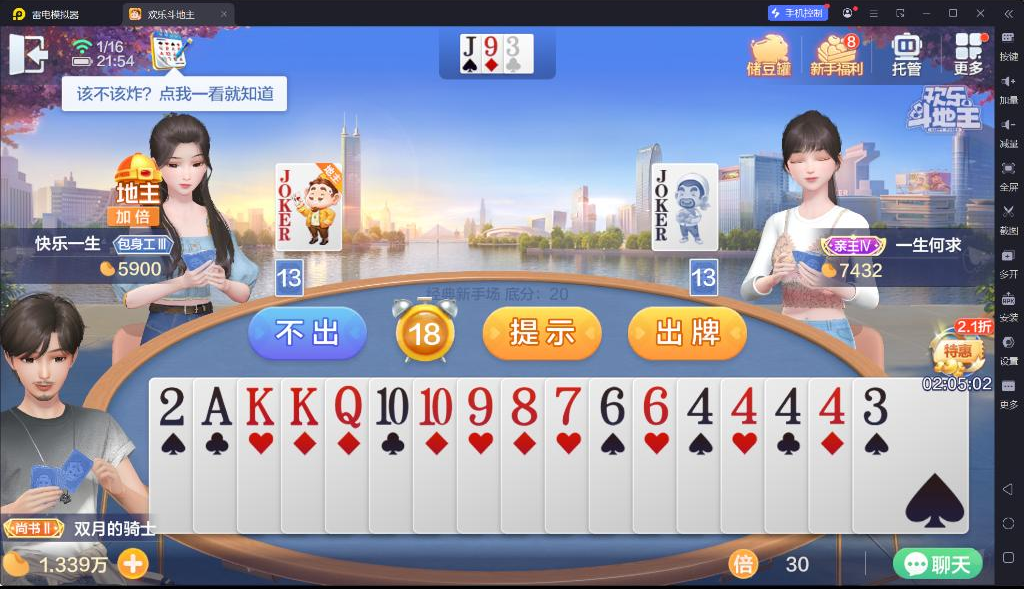A: (199, 383, 235, 426)
J: (461, 34, 478, 58)
JOKER: (276, 168, 292, 217)
K: (287, 382, 321, 428), (243, 383, 276, 429)
Q: (333, 384, 364, 430)
eight: (509, 383, 539, 426)
four: (771, 384, 804, 426), (683, 385, 715, 425), (816, 385, 848, 425), (728, 384, 758, 426)
joker: (652, 167, 670, 218)
nine: (466, 385, 494, 428), (482, 35, 500, 57)
seven: (552, 383, 585, 427)
six: (595, 383, 627, 426), (642, 383, 670, 426)
ten: (417, 385, 453, 428), (374, 385, 410, 427)
three: (860, 384, 890, 428), (504, 35, 521, 58)
two: (157, 386, 189, 429)
